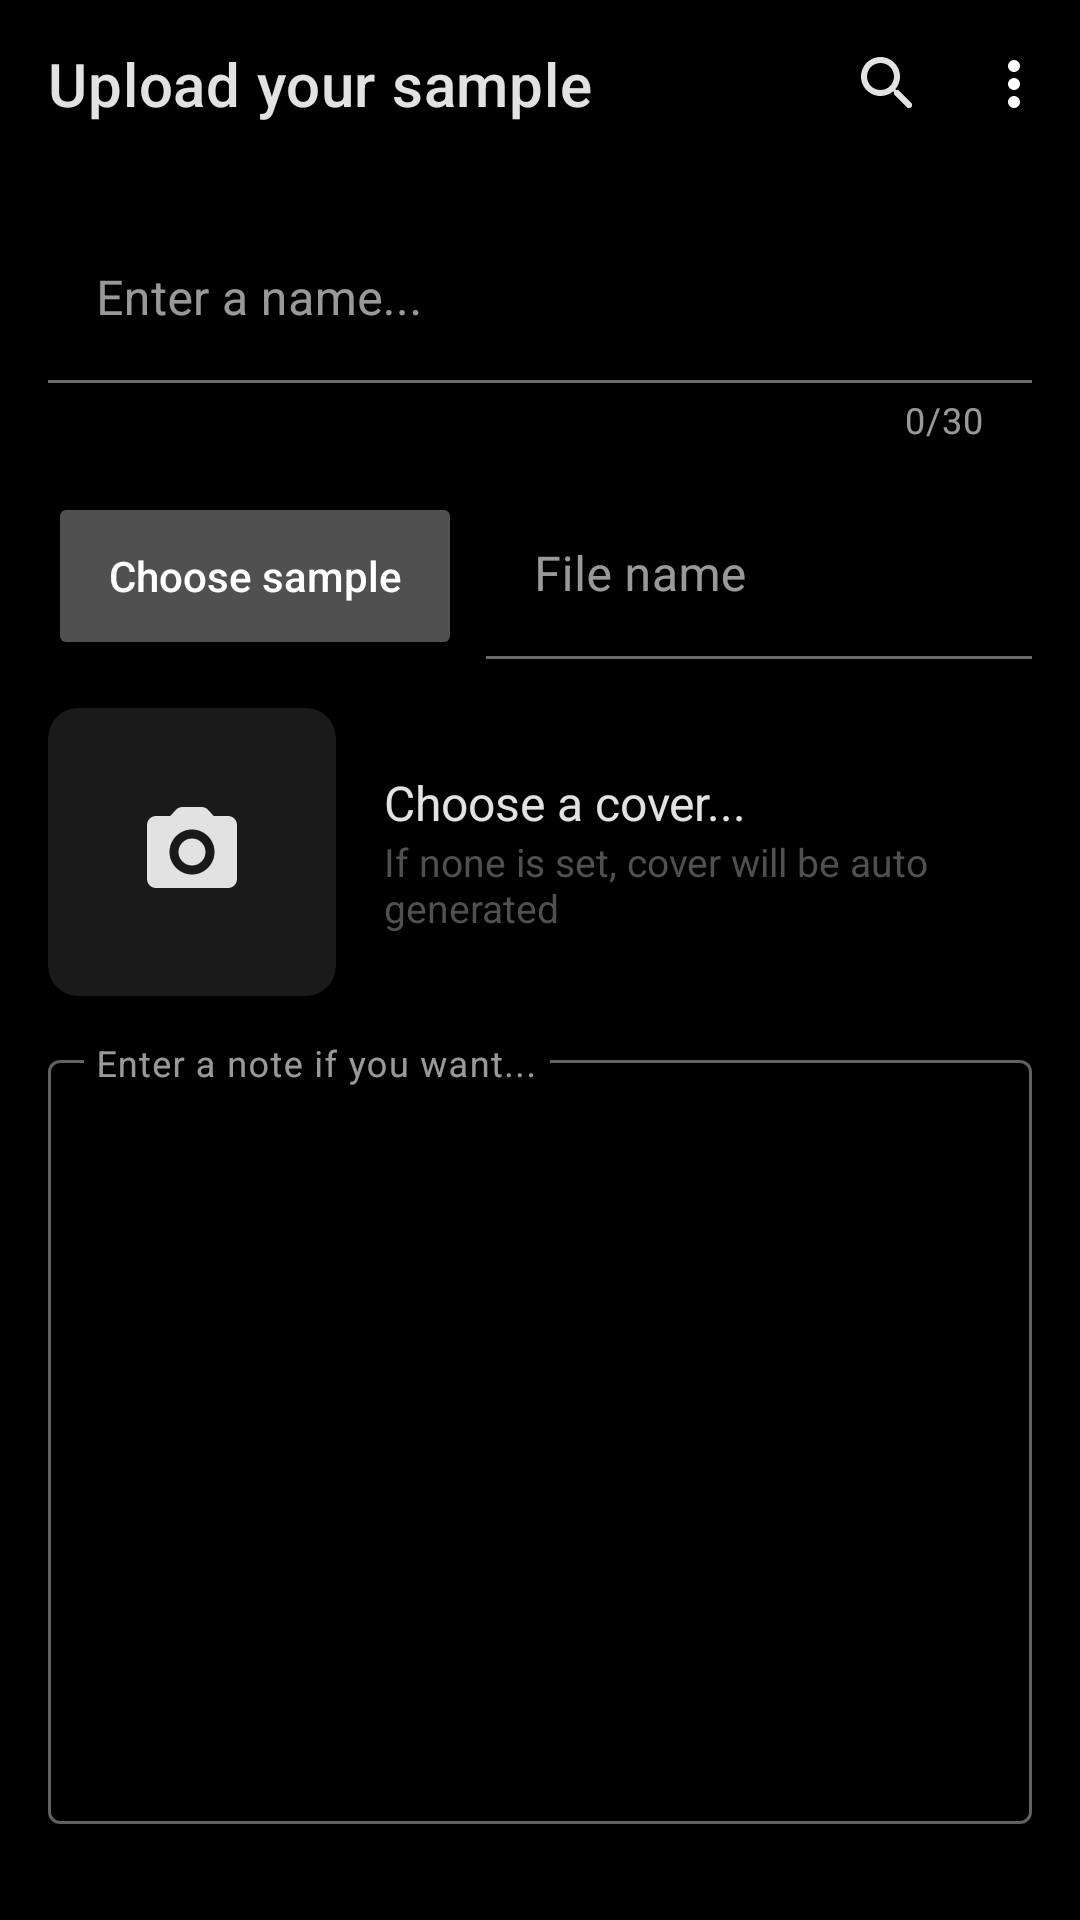

Where icons sit on this 1080 × 1920 app screen, as (x1, y1, x2, y2):
photo camera: (147, 807, 237, 888)
